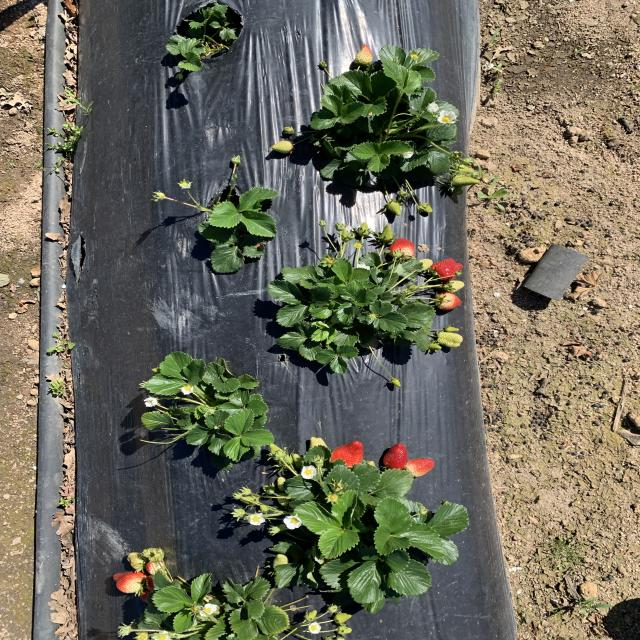unripe: (328, 441, 364, 468), (425, 258, 465, 281), (110, 570, 148, 594), (383, 442, 410, 470), (432, 291, 462, 311), (407, 457, 438, 476), (391, 238, 416, 259), (138, 590, 163, 604), (146, 574, 167, 590)
